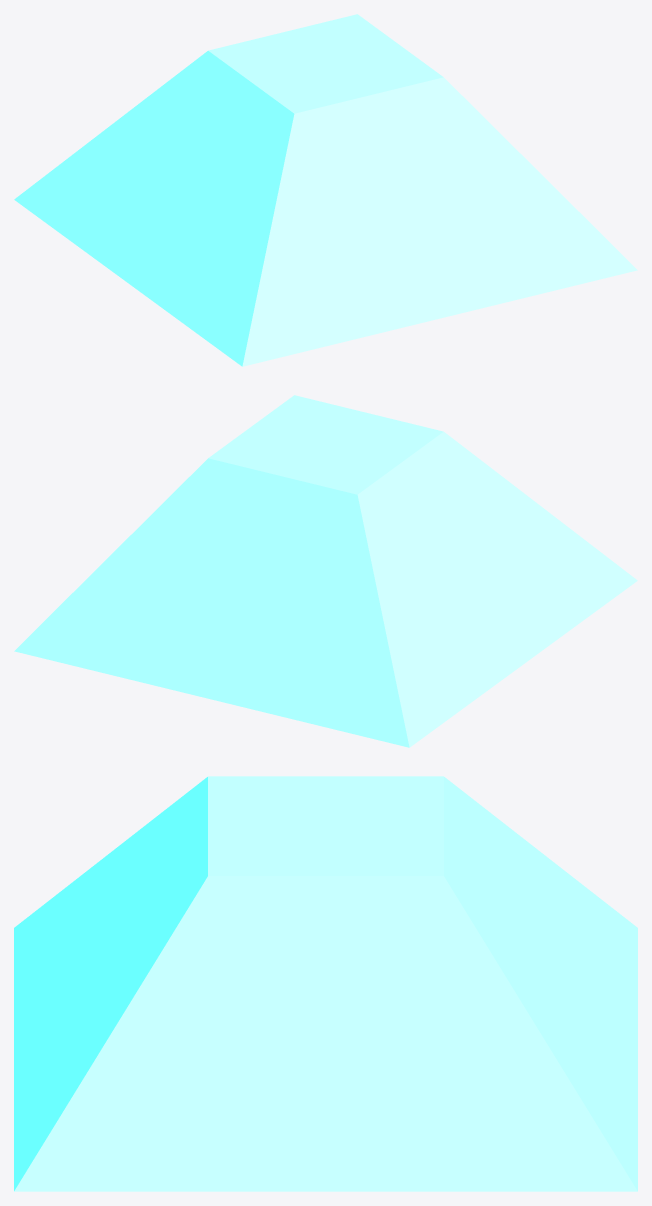
Rendered from assetPlanes.gltf.
The picture shows the model from 3 angles, top to bottom: view 1: azimuth 30°, elevation 25°; view 2: azimuth 150°, elevation 25°; view 3: azimuth 270°, elevation 25°; orthographic projection. The views are drawn at different scales.
Visible parts, largest first — view 1: Plane; view 2: Plane; view 3: Plane.
Boxes of the visible parts, bbox=[...] form: Plane: bbox=[14, 14, 637, 366]; Plane: bbox=[14, 395, 637, 747]; Plane: bbox=[14, 776, 637, 1191].
Bounding box in the file's own units: 2 × 0.8263 × 2.
